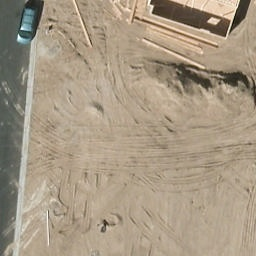car: (17, 4, 40, 44)
